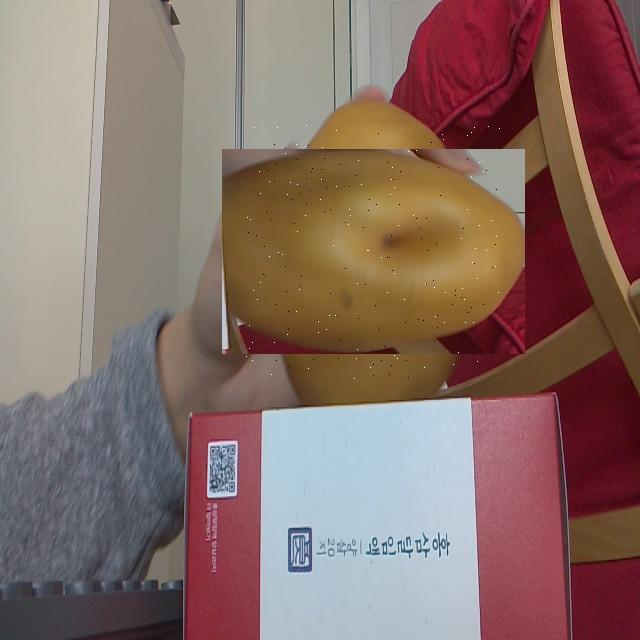pear: (246, 125, 501, 379)
